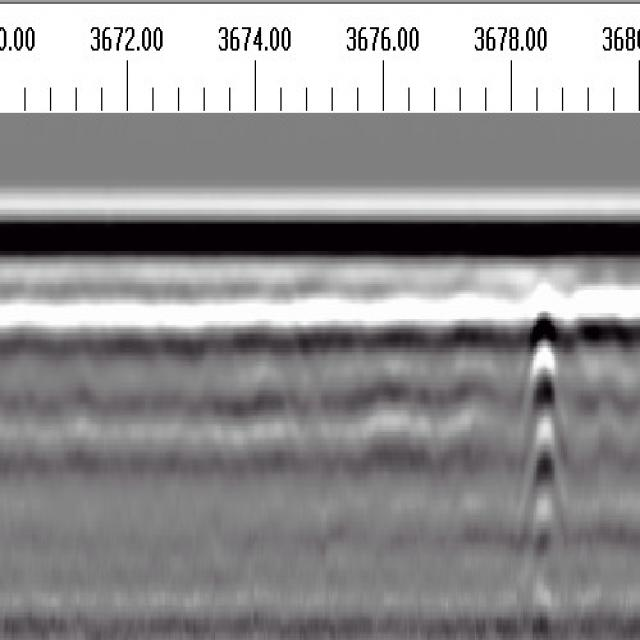crack: (522, 279, 562, 581)
